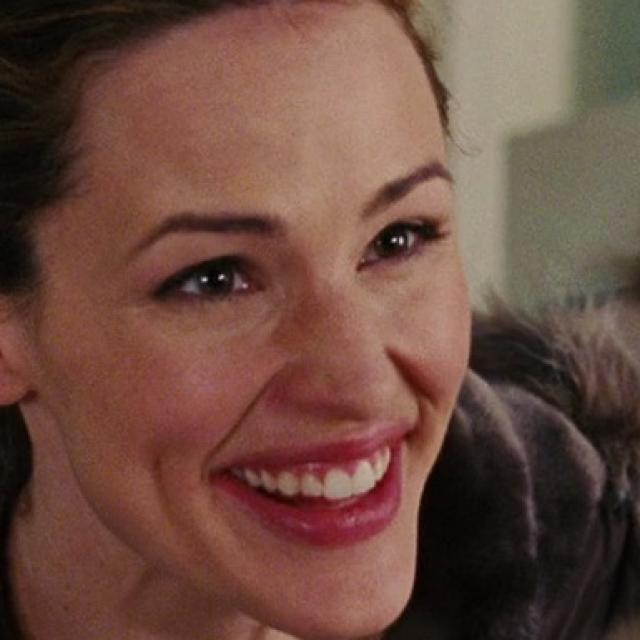Normal: (32, 3, 469, 637)
